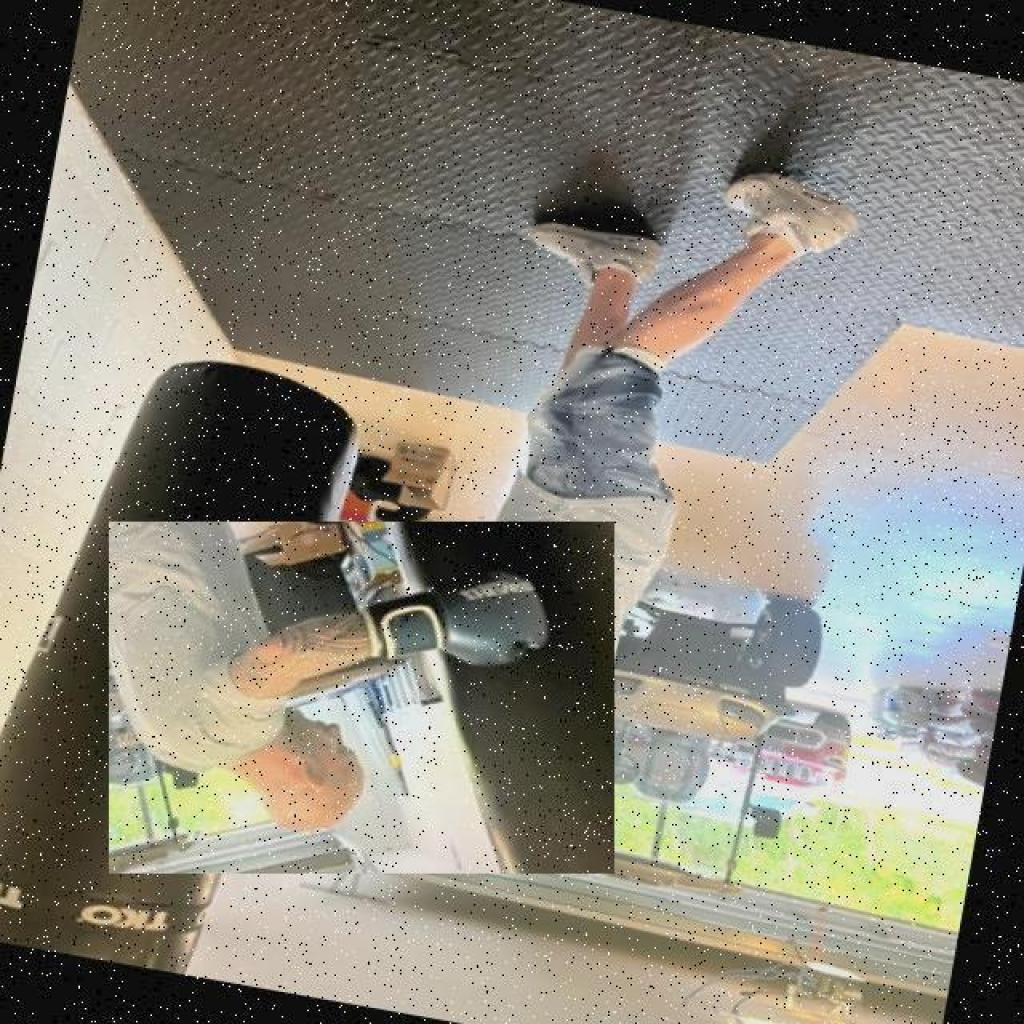hook: (109, 522, 615, 874)
